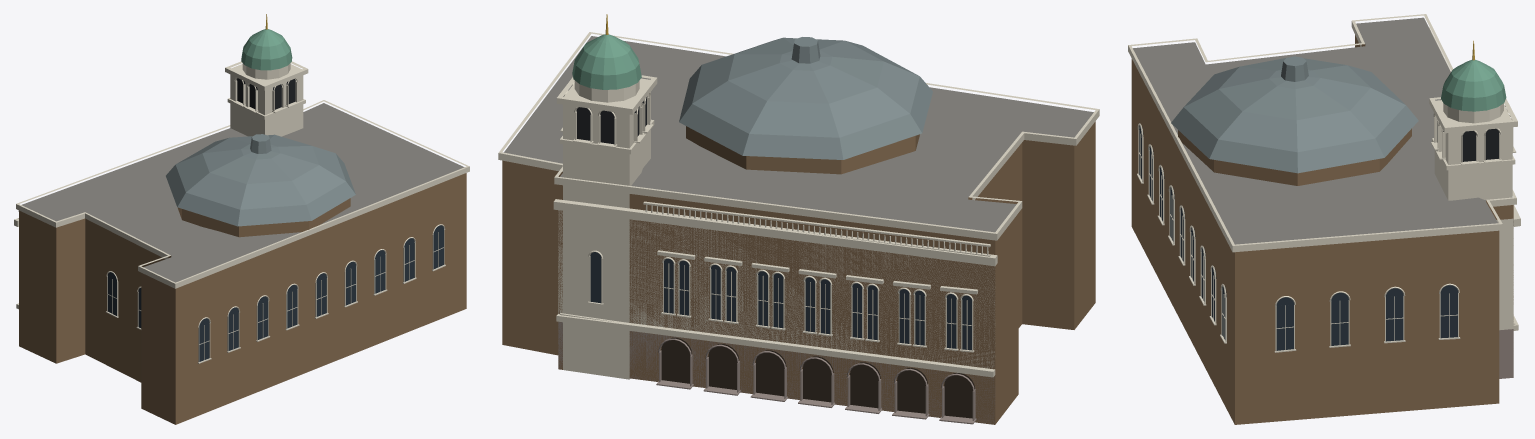
Rendered from cadogan_hall.glb.
3 views of the same model, side by side, from view 1: azimuth 30°, elevation 25°; view 2: azimuth 150°, elevation 25°; view 3: azimuth 270°, elevation 25° (orthographic). The views are drawn at different scales.
Bounding box in the file's own units: 47.23 × 30.75 × 33.54.
